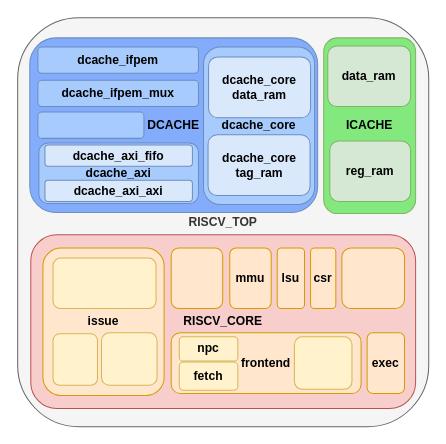
Image size: 446x444. Some labels were removed from this diagram. Here are the shapes that lost their labels. From the top down, the centre of each, then its label:
point (90, 124): dcache_mux
point (104, 283): trace_sim
point (196, 278): divider
point (373, 278): multiplier
point (74, 359): regfile
point (128, 358): pipe_ctrl
point (322, 362): decode
